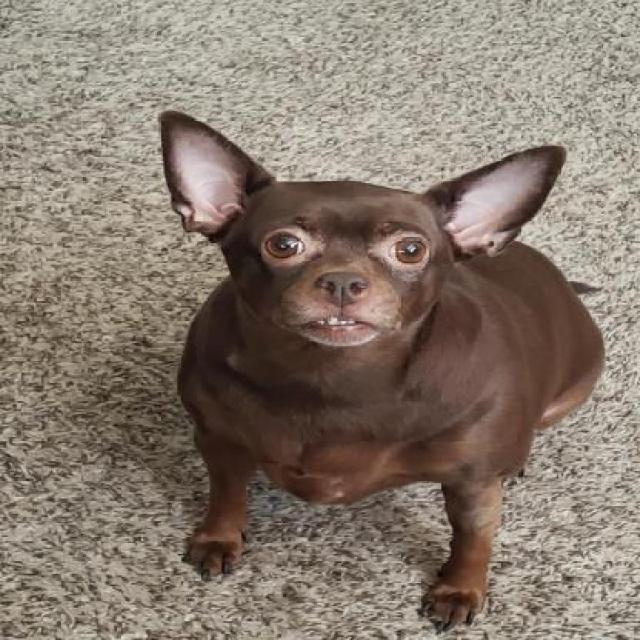Dog: (155, 108, 608, 634)
